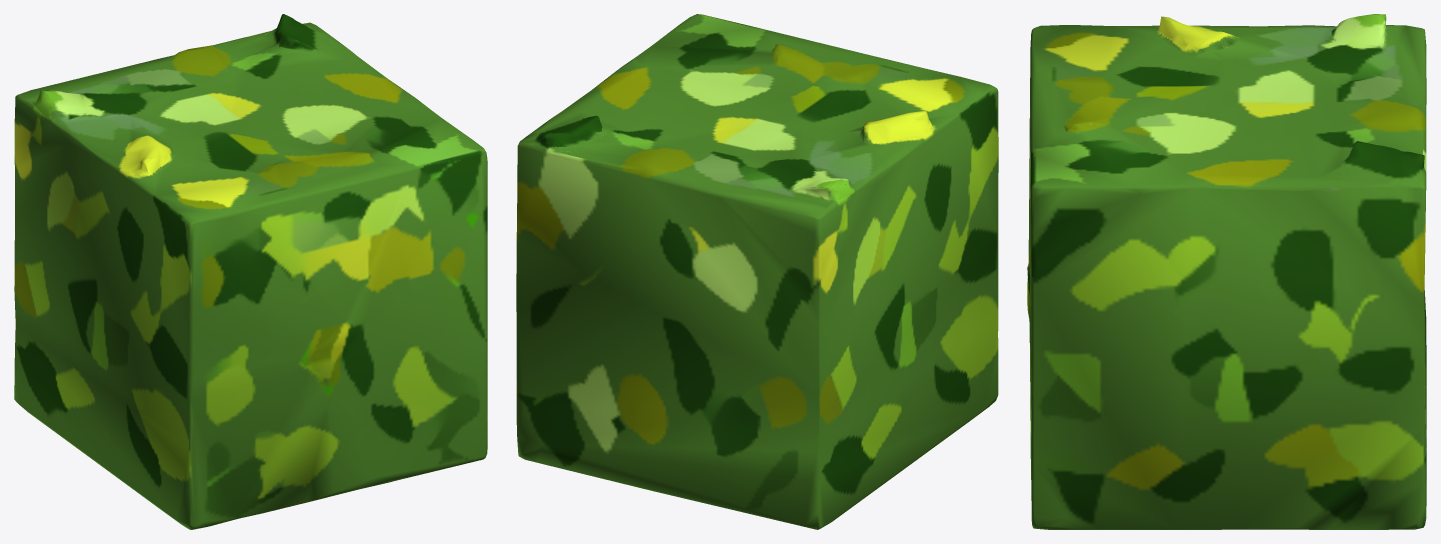
The model's file is cube-hedge.glb.
3 renders of one model, left to right at view 1: azimuth 30°, elevation 25°; view 2: azimuth 150°, elevation 25°; view 3: azimuth 270°, elevation 25°, orthographic. The views are drawn at different scales.
Parts seen in each view (by area): view 1: geometry_0.001; view 2: geometry_0.001; view 3: geometry_0.001.
Part boxes in pixels (x1,y1,x2,y2): geometry_0.001: [14, 14, 487, 529]; geometry_0.001: [516, 14, 998, 529]; geometry_0.001: [1027, 14, 1426, 529].
Bounding box in the file's own units: 0.9616 × 1 × 0.9985.
Materials: 1 (1 with a texture image).
